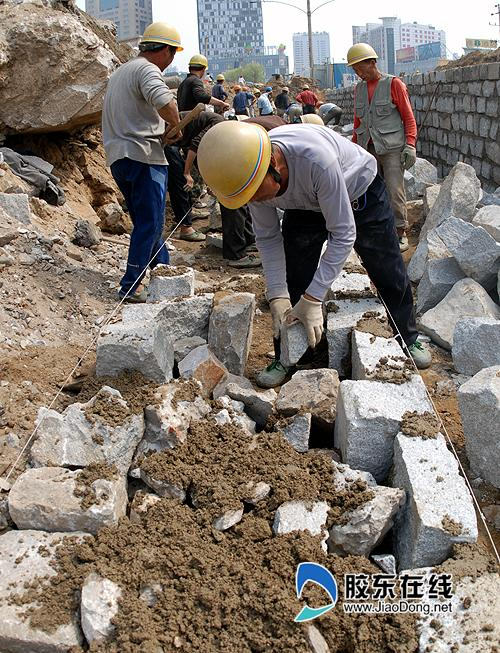helmet: (200, 119, 273, 208), (141, 23, 185, 50), (347, 43, 380, 68), (301, 89, 322, 109), (191, 54, 208, 70), (216, 72, 226, 84), (252, 89, 262, 100), (233, 85, 243, 94), (265, 87, 275, 94)
